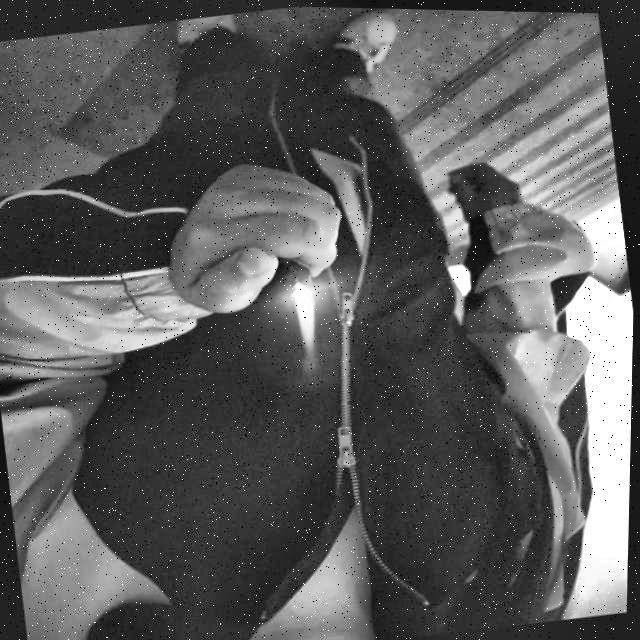Fire: (292, 284, 324, 356)
